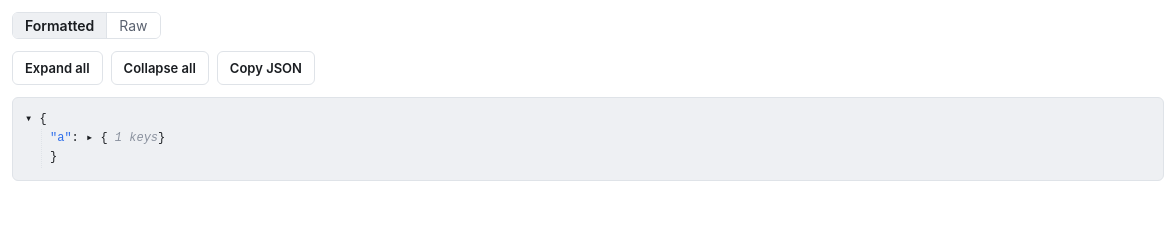
Test case: JsonView › collapse all and expand all toggle every node
The width and height of the screenshot is (1164, 236).
Click the button "Collapse all": (160, 68) [111, 51, 209, 85]
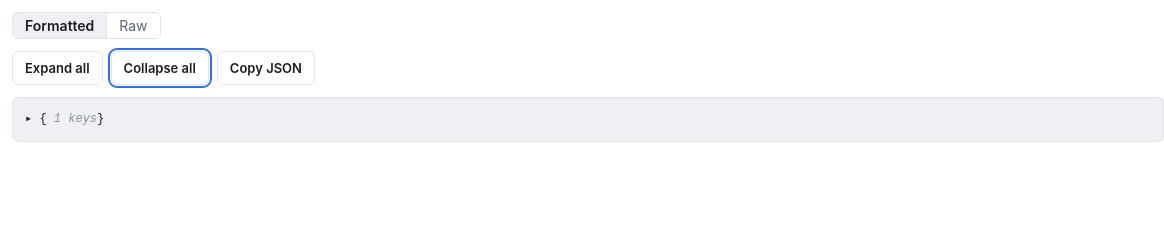
Expected: the text "\"a\"" is gone
Click the button "Expand all": (57, 68) [12, 51, 103, 85]
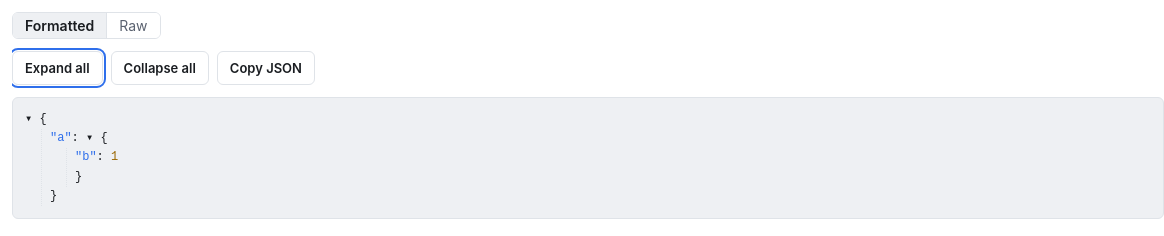
Expected: the text "\"b\"" is shown, [75, 150, 97, 164]
